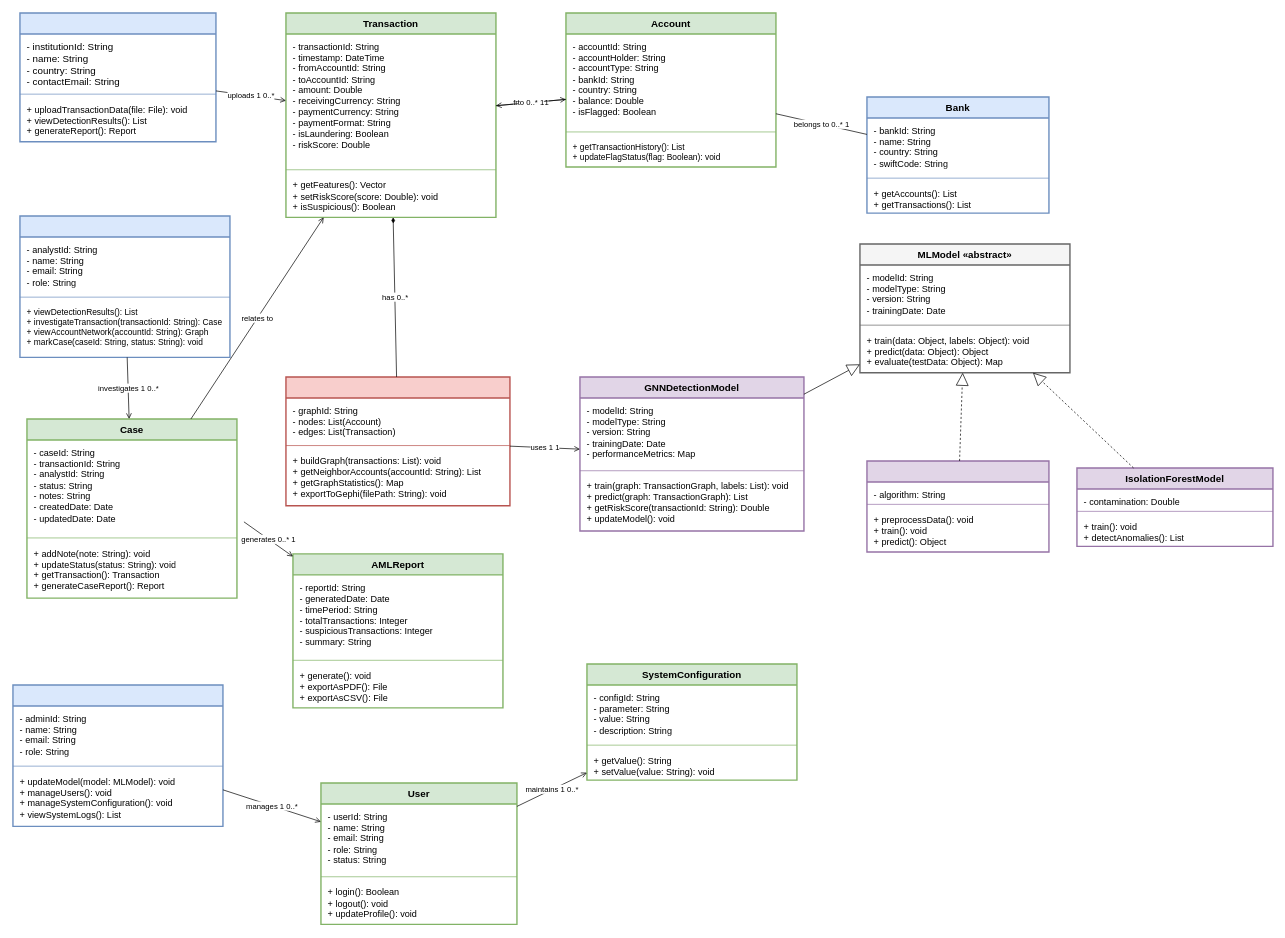
Image size: 1285x938. Some labels were removed from this diagram. The box of each missing label's shape, as (x1, y1, x2, y2) in pixels:
AMLAnalyst: (19, 215, 230, 358)
ClassicalMLModel: (866, 460, 1049, 552)
FinancialInstitution: (19, 12, 216, 142)
SystemAdministrator: (12, 684, 223, 827)
TransactionGraph: (285, 376, 510, 506)
